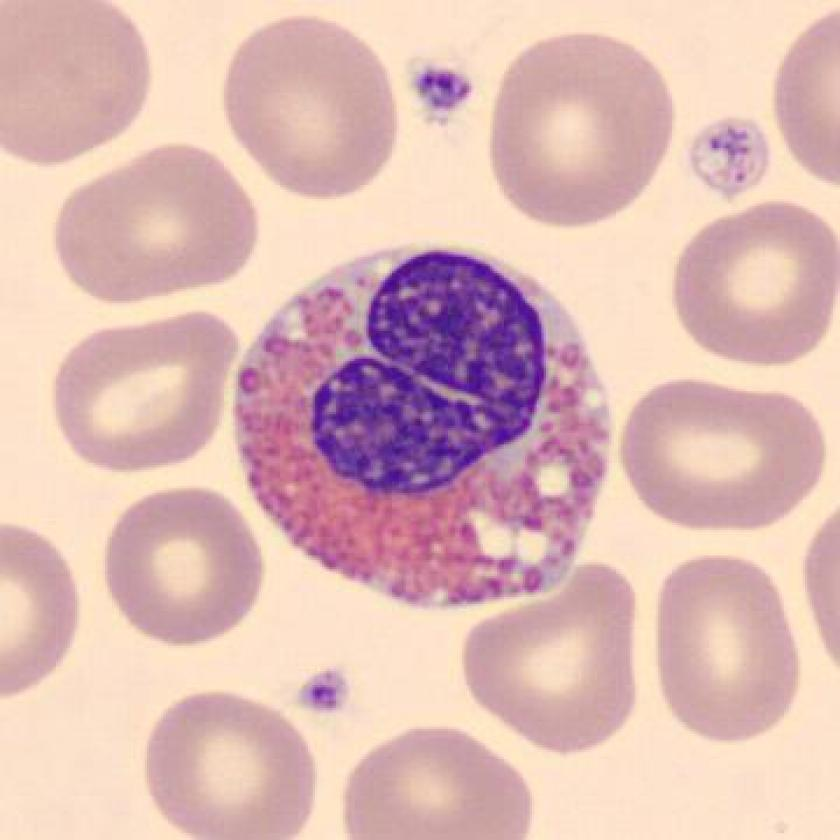eosinophil: (225, 230, 629, 626)
